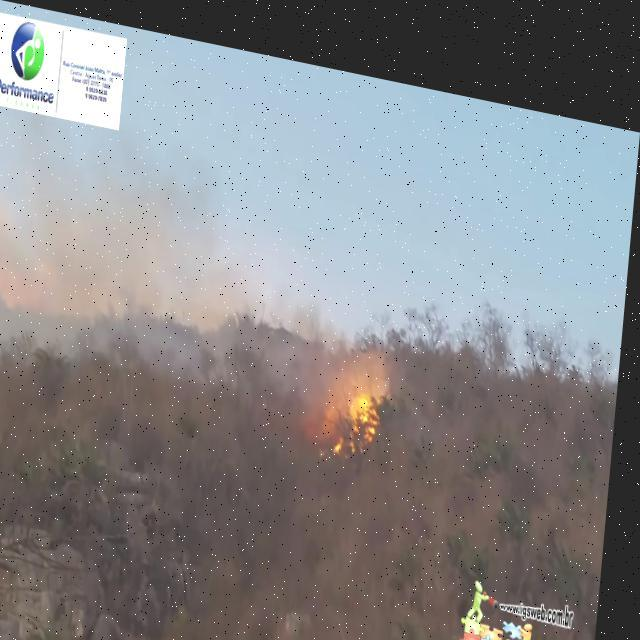Fire: (336, 376, 386, 442)
